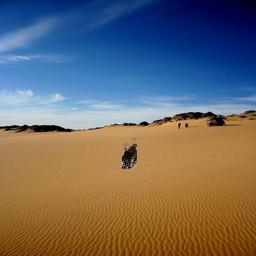Crow: (121, 137, 137, 169)
